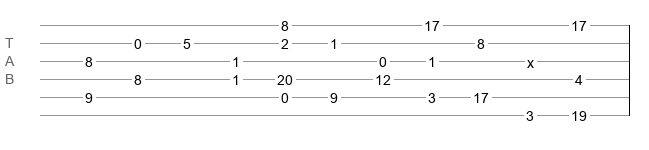0: (134, 36, 142, 46), (281, 90, 289, 100), (379, 54, 387, 64)
1: (232, 54, 240, 64), (232, 72, 240, 82), (330, 36, 338, 46), (428, 54, 436, 64)
12: (375, 72, 391, 82)
17: (424, 18, 440, 28), (473, 90, 489, 100), (571, 18, 587, 28)
19: (571, 108, 587, 118)
2: (281, 36, 289, 46)
20: (277, 72, 293, 82)
3: (428, 90, 436, 100), (526, 108, 534, 118)
4: (575, 72, 583, 82)
5: (183, 36, 191, 46)
8: (85, 54, 93, 64), (134, 72, 142, 82), (281, 18, 289, 28), (477, 36, 485, 46)
9: (85, 90, 93, 100), (330, 90, 338, 100)
x: (527, 55, 534, 63)
